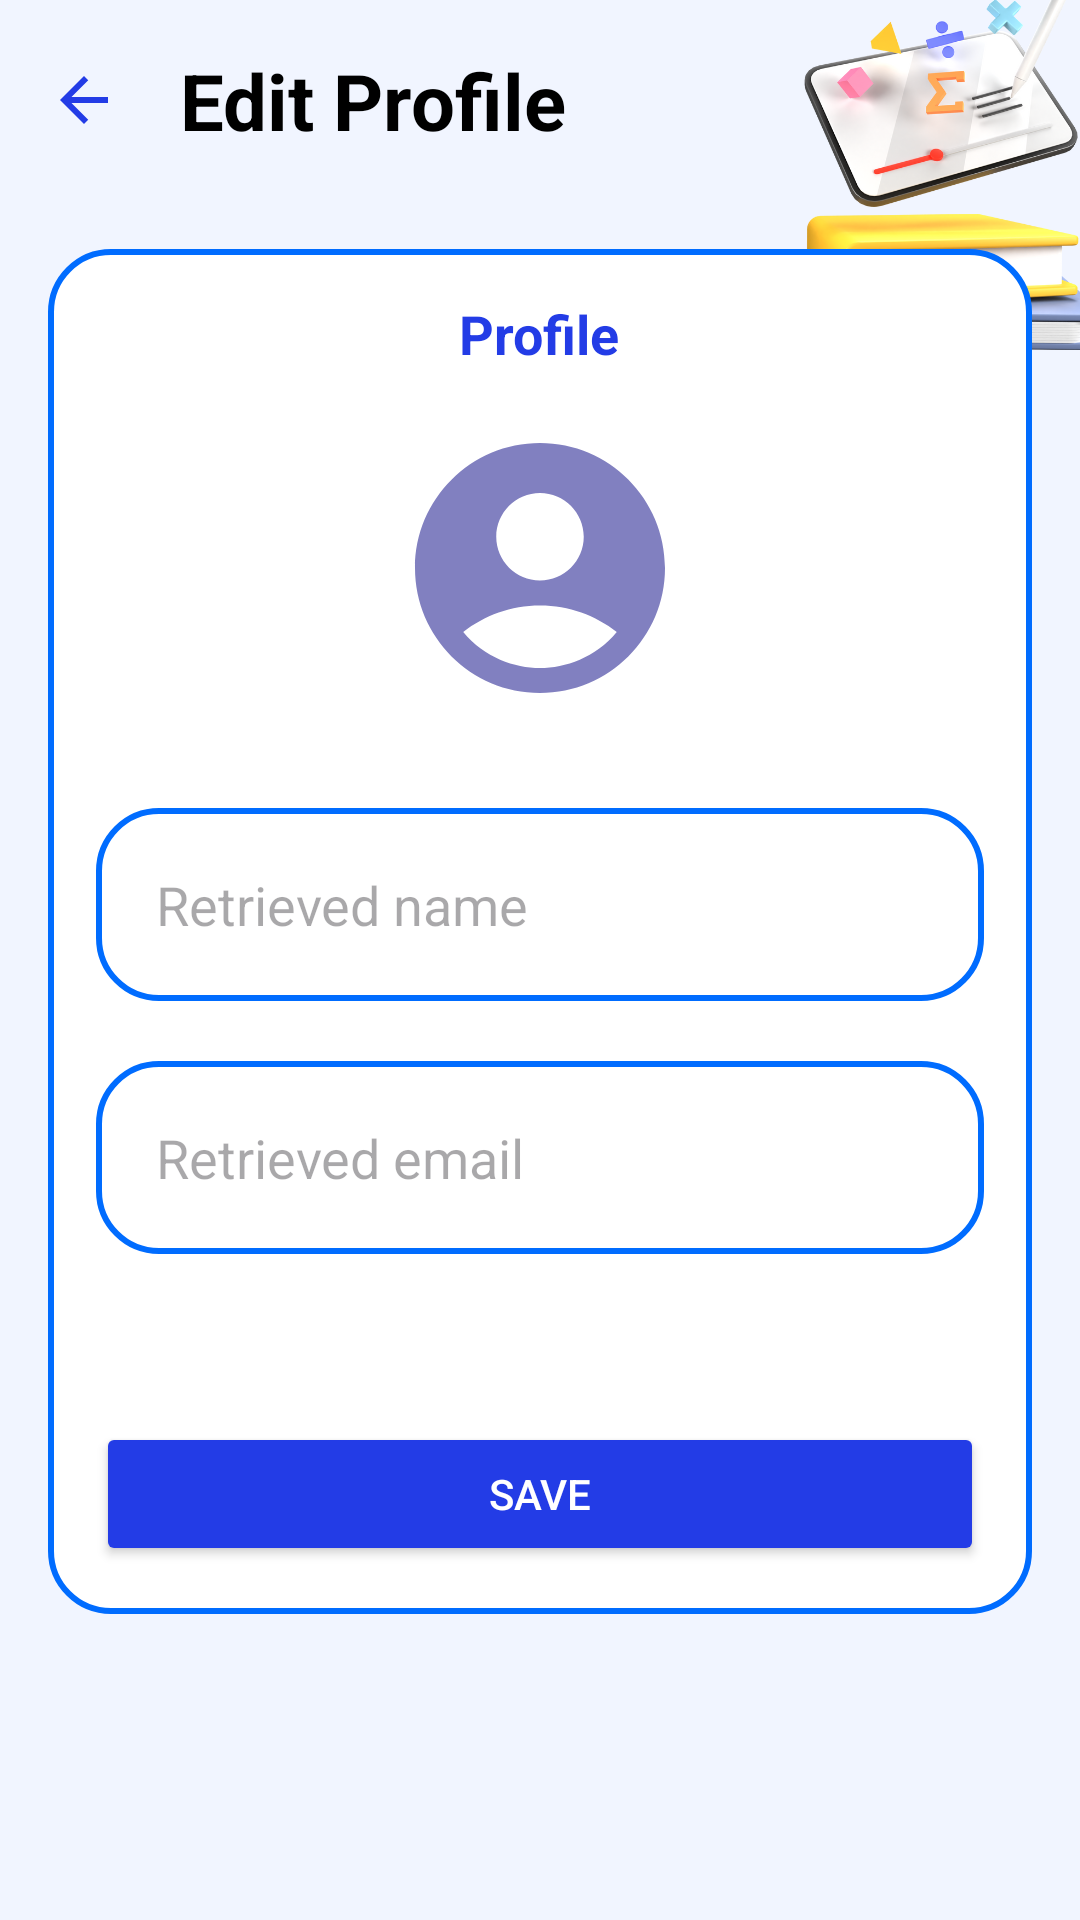

Named icons in this screenshot (1080px×1920px) and their centers, point (x, y):
account circle: point (540, 568)
Back: point (84, 100)
